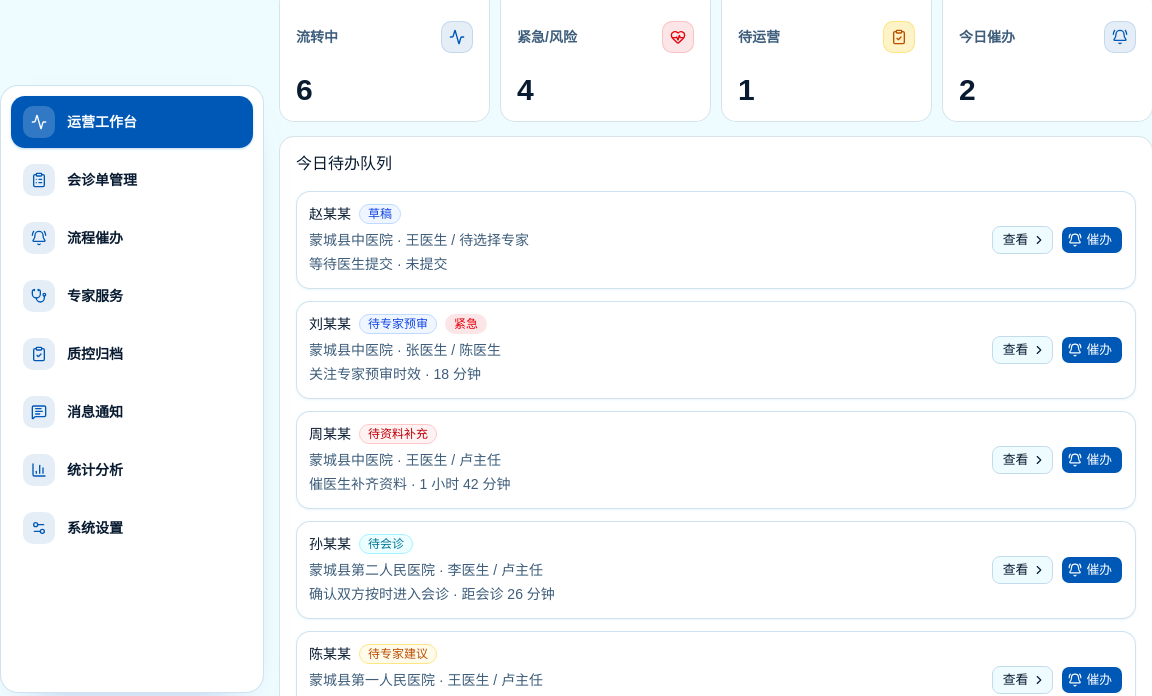
Test: AdminView navigation › changes case detail handling by consultation status
Click the button "会诊单管理": (132, 180) [11, 154, 253, 206]
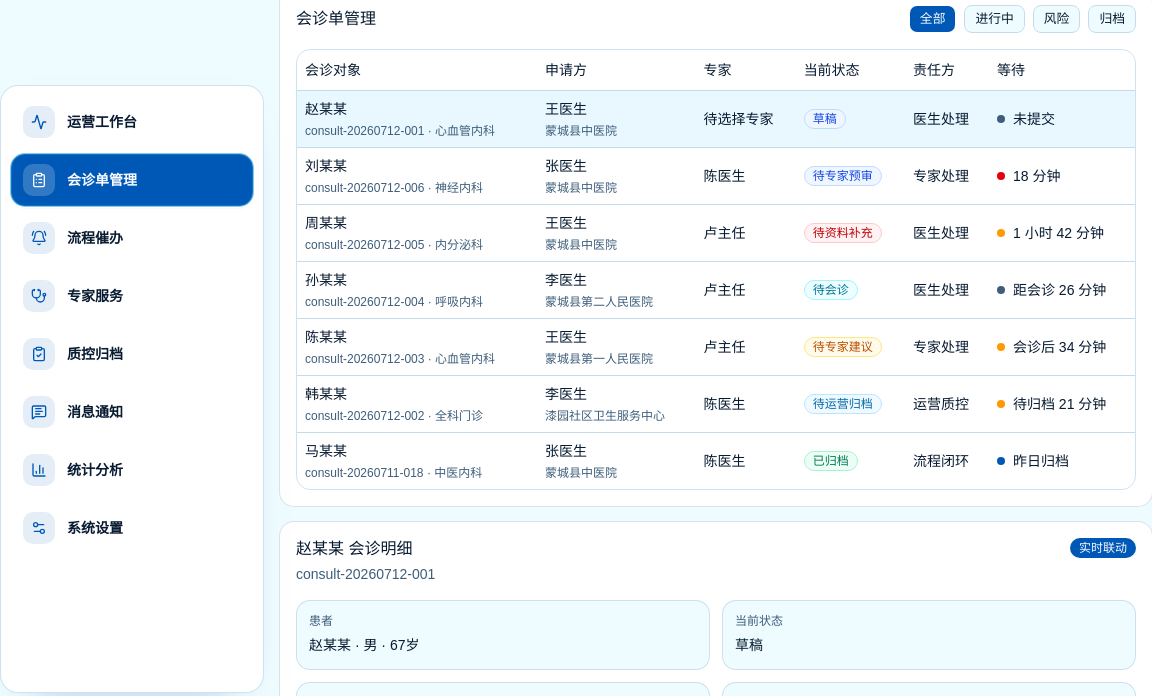
Expected: the button "质控通过并归档" is not shown
Click the text "刘某某": (716, 176) [297, 147, 1135, 204]
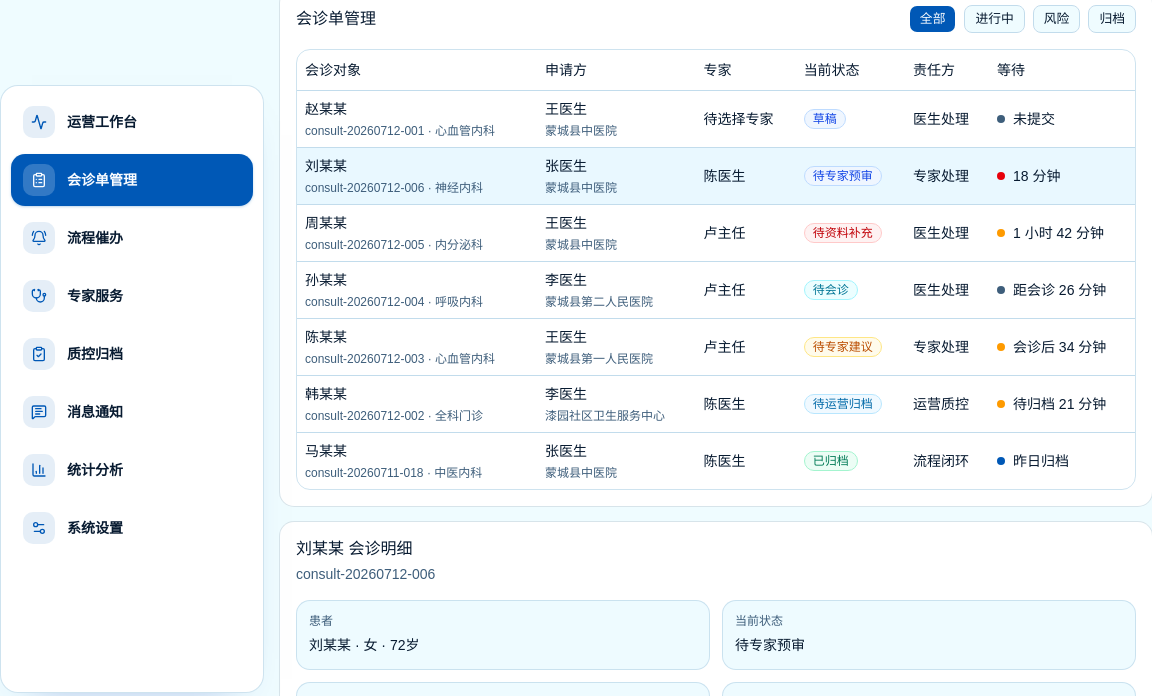
Click the text "周某某": (716, 232) [297, 204, 1135, 261]
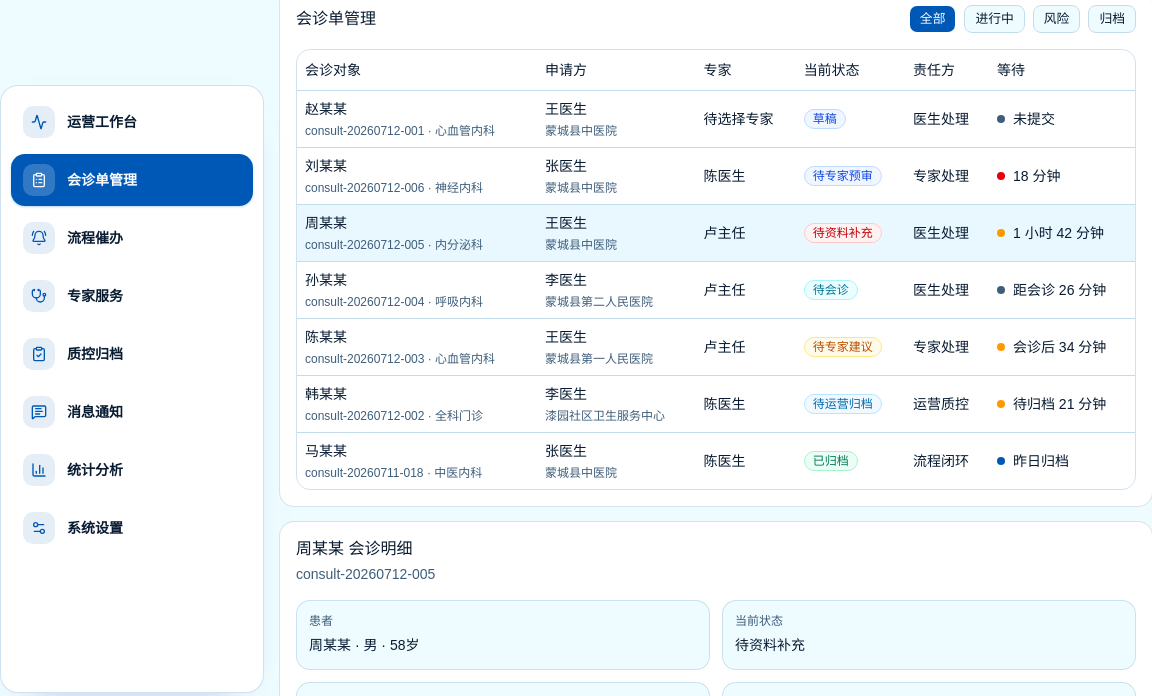
Click the text "孙某某": (716, 290) [297, 261, 1135, 318]
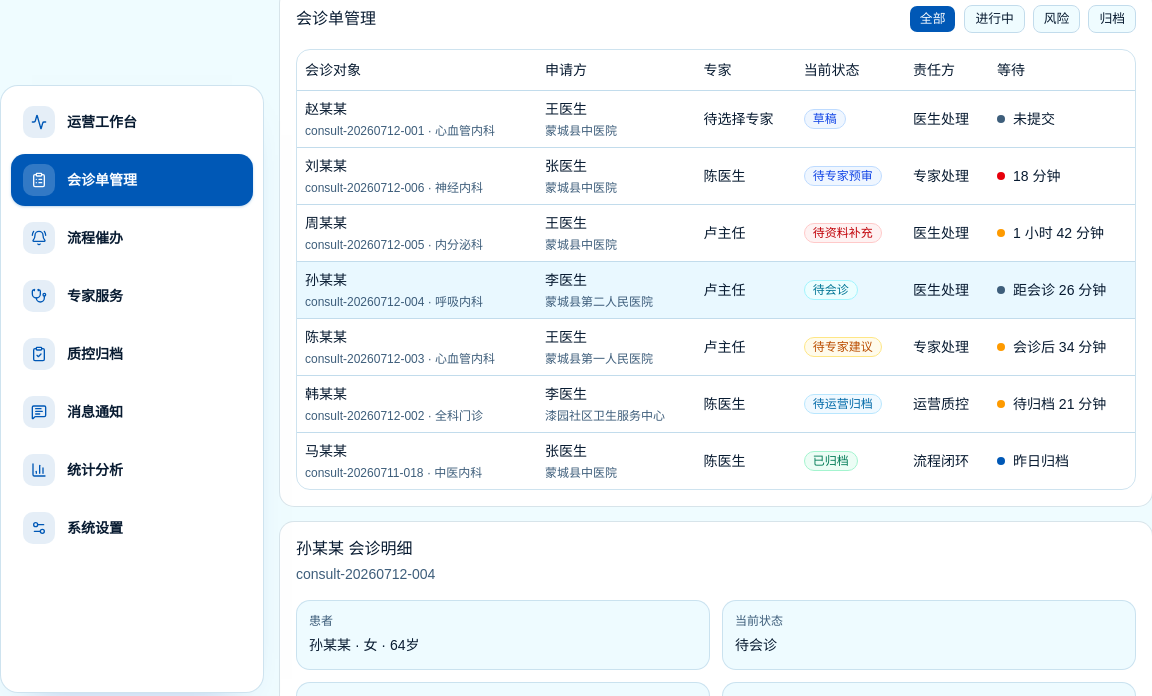
Click the text "陈某某": (716, 346) [297, 318, 1135, 375]
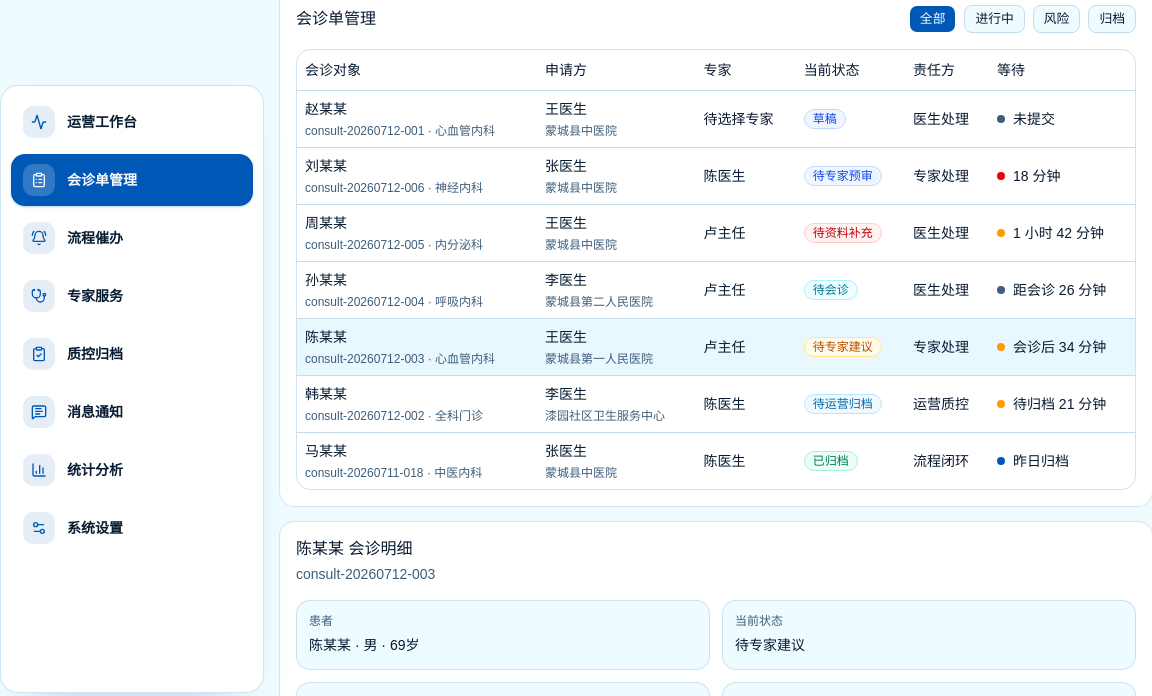
Click the text "韩某某": (716, 404) [297, 375, 1135, 432]
(page scrolled)
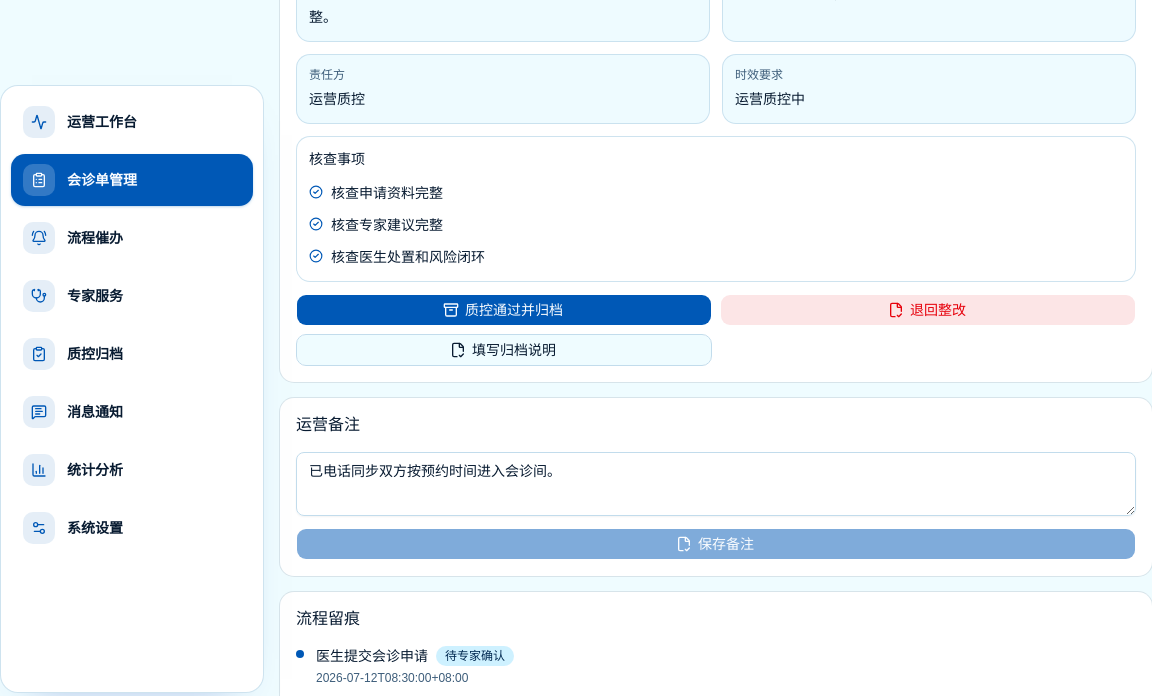
Expected: the button "质控通过并归档" is shown, [296, 294, 712, 326]
Expected: the button "退回整改" is shown, [720, 294, 1136, 326]
Expected: the button "填写归档说明" is shown, [296, 334, 712, 366]
